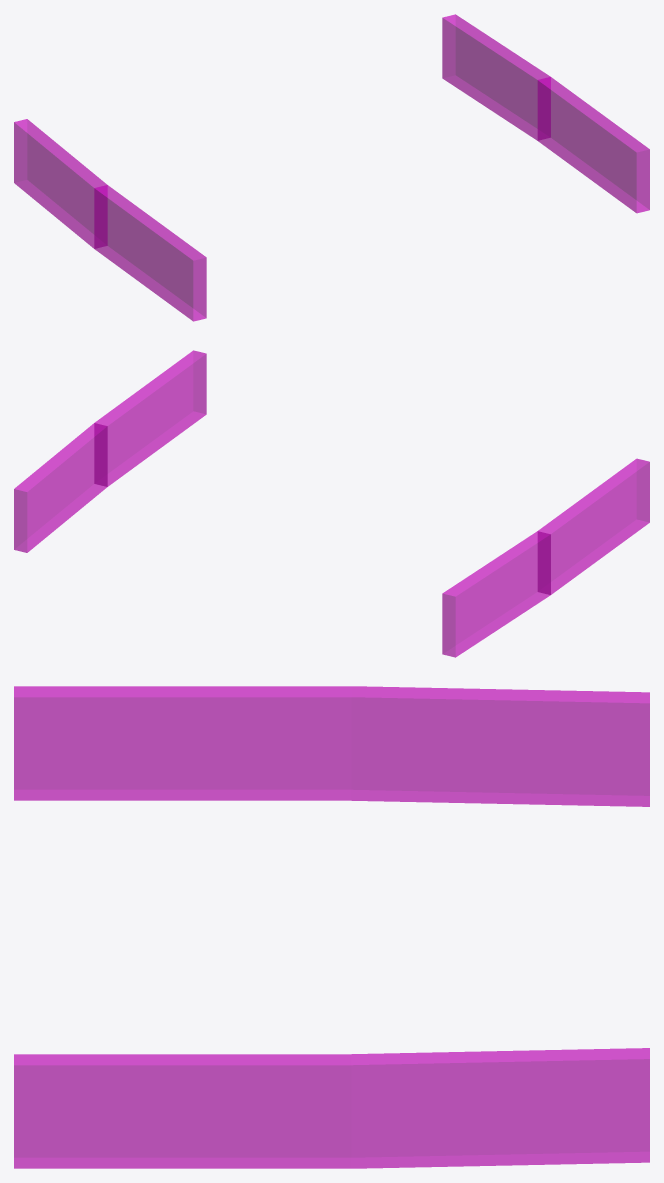
Rendered from SM_Veh_Ship_L_Back_01_Railing_01_Collision.fbx.
3 renders of one model, top to bottom at view 1: azimuth 30°, elevation 25°; view 2: azimuth 150°, elevation 25°; view 3: azimuth 270°, elevation 25°, orthographic. The views are drawn at different scales.
Visible parts, largest first — view 1: SM_Veh_Ship_L_Back_01_Railing_01_Collision; view 2: SM_Veh_Ship_L_Back_01_Railing_01_Collision; view 3: SM_Veh_Ship_L_Back_01_Railing_01_Collision.
Part boxes in pixels (bbox=[...]): SM_Veh_Ship_L_Back_01_Railing_01_Collision: bbox=[14, 14, 649, 321]; SM_Veh_Ship_L_Back_01_Railing_01_Collision: bbox=[14, 350, 649, 657]; SM_Veh_Ship_L_Back_01_Railing_01_Collision: bbox=[14, 686, 649, 1168].
Bounding box in the file's own units: 999 × 127 × 709.
